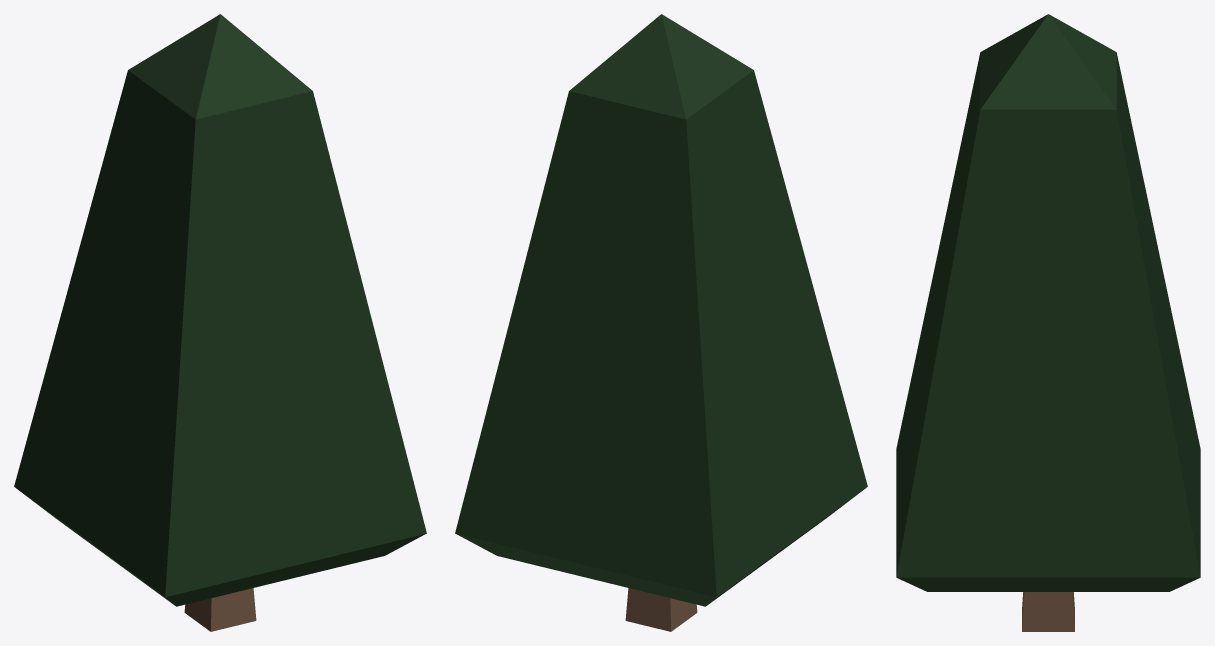
File: test_tree.fbx
3 renders of one model, left to right at view 1: azimuth 30°, elevation 25°; view 2: azimuth 150°, elevation 25°; view 3: azimuth 270°, elevation 25°, orthographic.
Parts seen in each view (by area): view 1: test_tree; view 2: test_tree; view 3: test_tree.
Part boxes in pixels (bbox=[...]): test_tree: bbox=[14, 14, 426, 631]; test_tree: bbox=[455, 14, 867, 631]; test_tree: bbox=[896, 14, 1200, 631].
Bounding box in the file's own units: 0.5769 × 1.27 × 0.5769.
